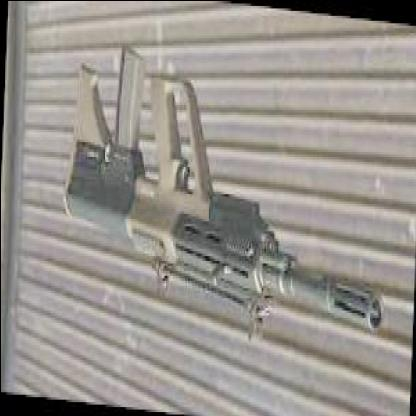rifle: (58, 27, 402, 347)
